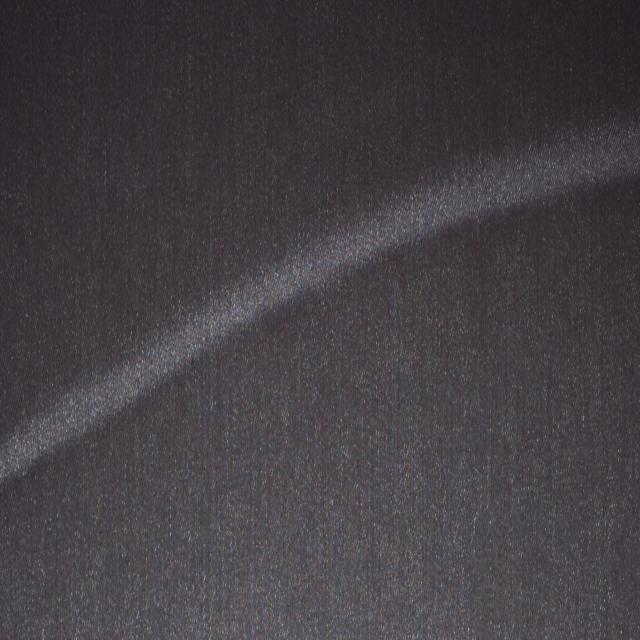broken_yarn: (0, 151, 636, 514)
